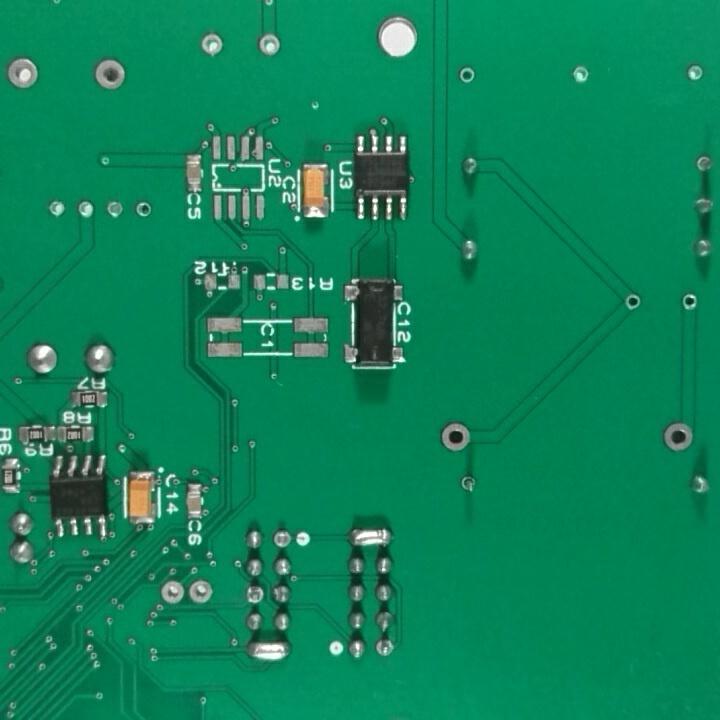F: (88, 56, 130, 91), (2, 53, 40, 90), (664, 418, 698, 453), (440, 420, 473, 454), (188, 578, 219, 606), (159, 576, 185, 606), (198, 32, 226, 59), (256, 32, 283, 57), (244, 583, 268, 609), (456, 472, 479, 498), (103, 199, 125, 221), (621, 291, 644, 312), (76, 199, 96, 223), (571, 62, 590, 87), (374, 640, 396, 661), (133, 199, 155, 220), (457, 63, 477, 86), (694, 153, 714, 176), (46, 198, 67, 219), (274, 529, 293, 552), (679, 291, 698, 313), (687, 62, 704, 83)
P: (344, 520, 395, 550), (242, 638, 297, 663)
